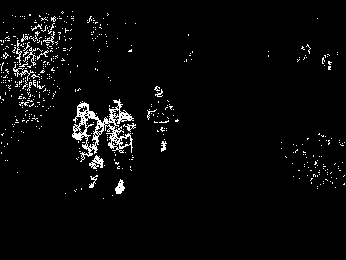person: (66, 99, 102, 200), (105, 96, 138, 204), (149, 83, 177, 154)
